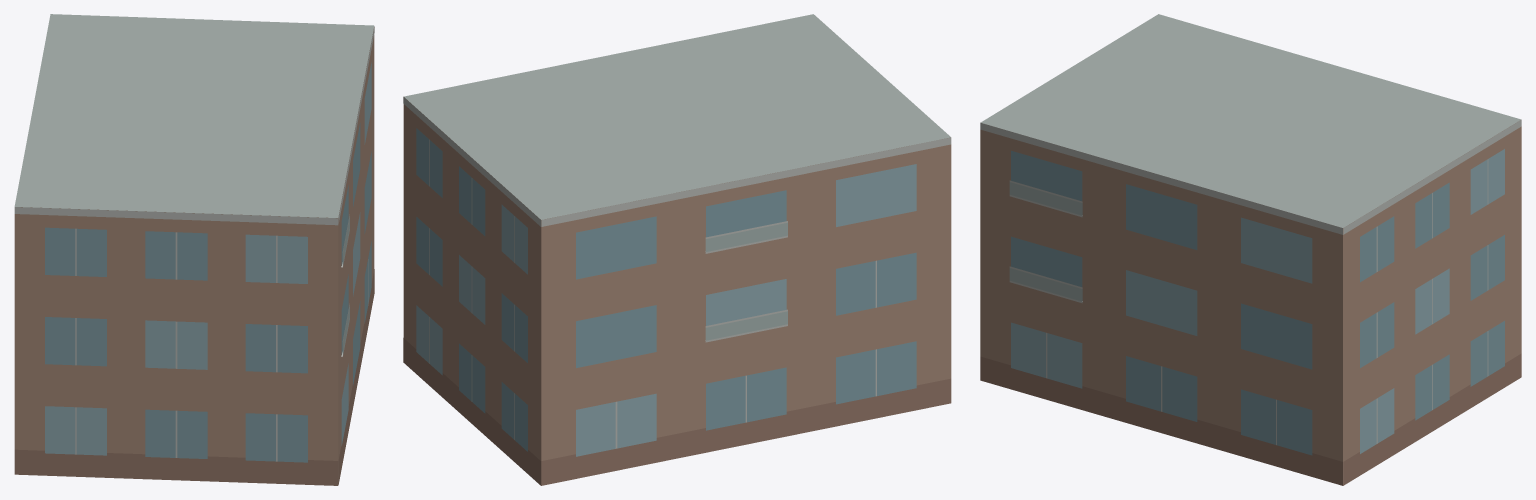
File: survey-upis-32994545.glb
3 renders of one model, left to right at view 1: azimuth 30°, elevation 25°; view 2: azimuth 150°, elevation 25°; view 3: azimuth 270°, elevation 25°, orthographic. The views are drawn at different scales.
Visible parts, largest first — view 1: survey-upis-32994545.tmp; view 2: survey-upis-32994545.tmp; view 3: survey-upis-32994545.tmp.
Boxes of the visible parts, <box> form: survey-upis-32994545.tmp: <box>14,14,374,485</box>; survey-upis-32994545.tmp: <box>403,14,951,485</box>; survey-upis-32994545.tmp: <box>980,14,1521,485</box>.
Size of the model in its own units: 16.31 by 9.15 by 17.42.
